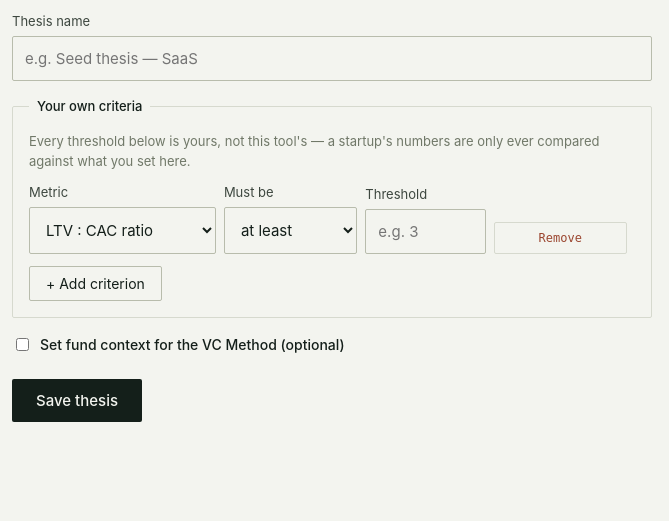
ThesisForm › starts with one criterion row and can add/remove rows
This screenshot has width=669, height=521.
expect the number of fields labelled "Threshold" is 1: met, box [365,208,486,254]
Click the button "+ Add criterion": (95, 283) [29,266,162,300]
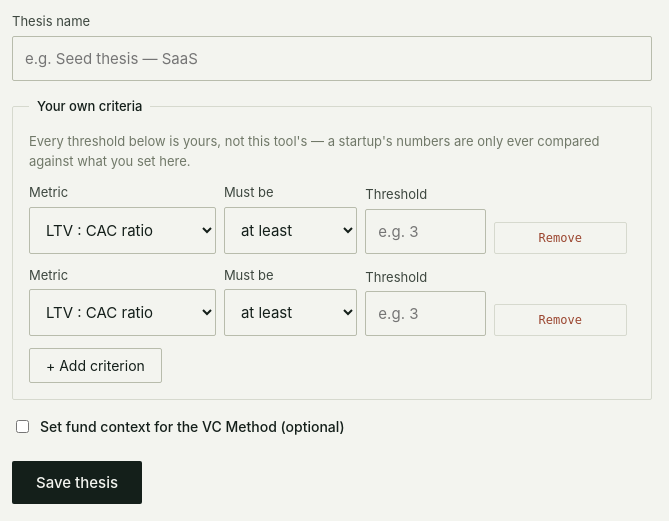
expect the number of fields labelled "Threshold" is 2: met, box [365,208,486,254]; [365,291,486,336]
Click the 1st button "Remove": (560, 238) [494,222,627,254]
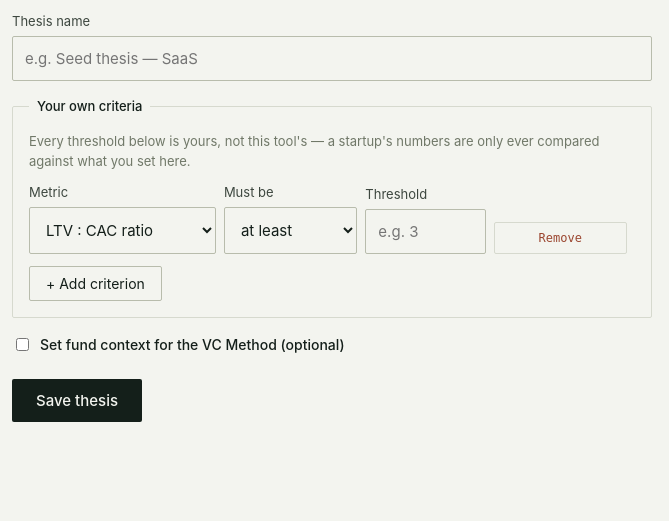
expect the number of fields labelled "Threshold" is 1: met, box [365,208,486,254]
